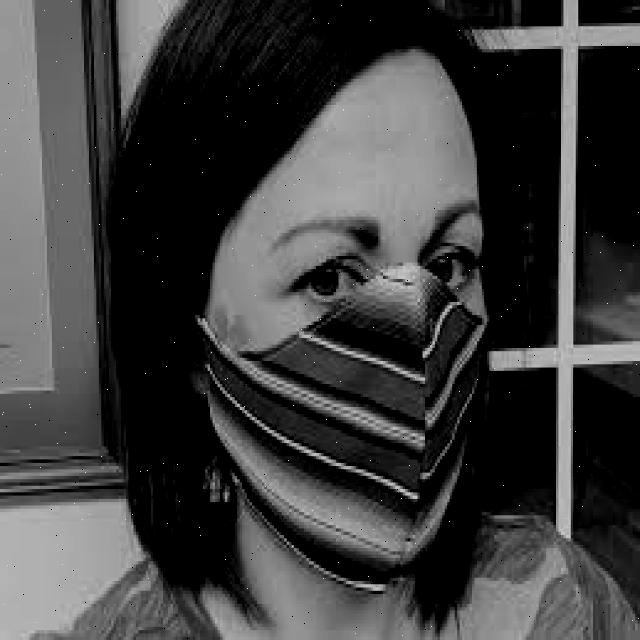fake: (203, 262, 492, 592)
real: (209, 40, 485, 600)
